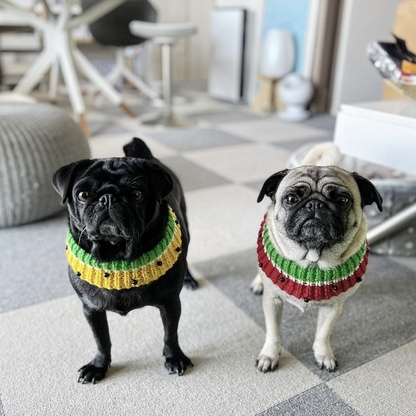Pug: (47, 133, 208, 389), (247, 139, 387, 378)
